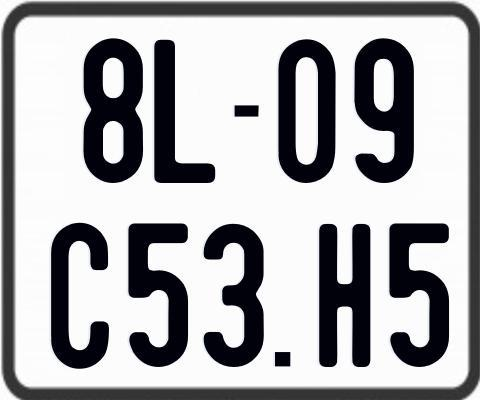0: (275, 38, 333, 186)
3: (203, 221, 268, 367)
5: (127, 220, 191, 368), (387, 222, 451, 370)
8: (82, 36, 148, 183)
9: (353, 37, 418, 183)
C: (51, 223, 109, 375)
H: (319, 222, 376, 370)
L: (153, 37, 218, 184)
